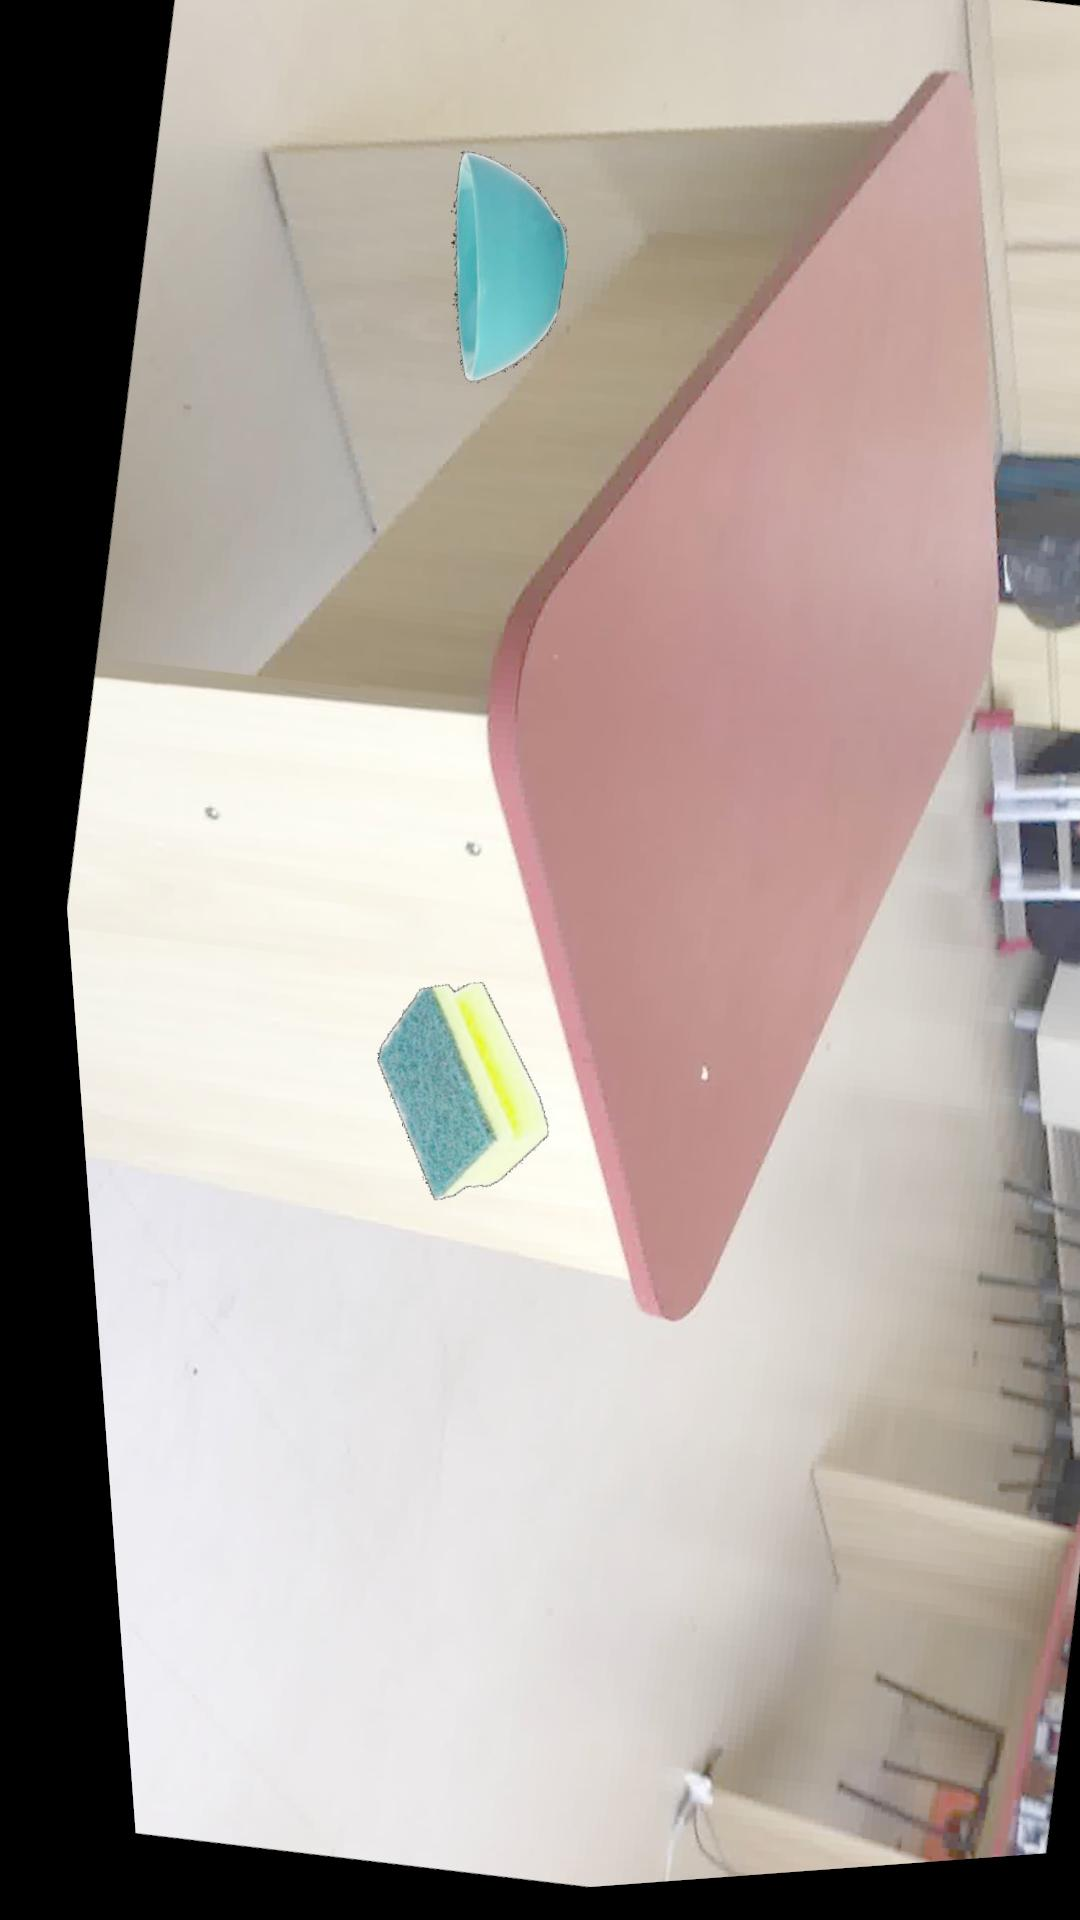bowl: (447, 161, 562, 390)
sponge: (359, 990, 529, 1207)
